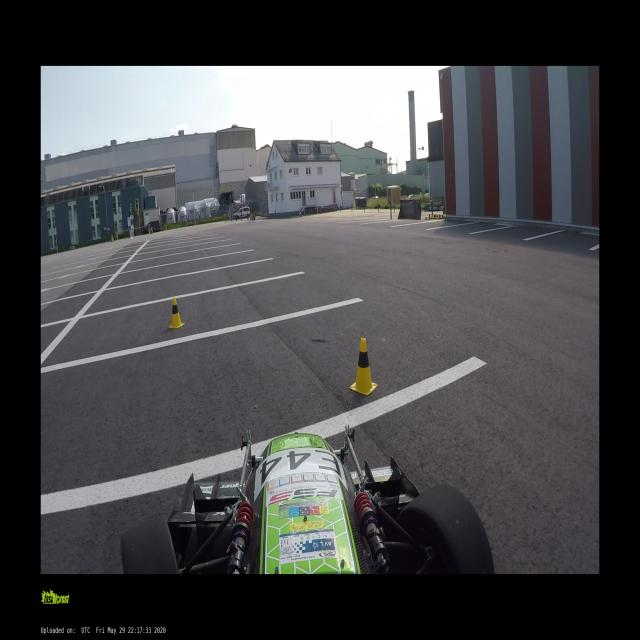yellow_cone: (350, 339, 376, 396), (167, 297, 185, 330)
